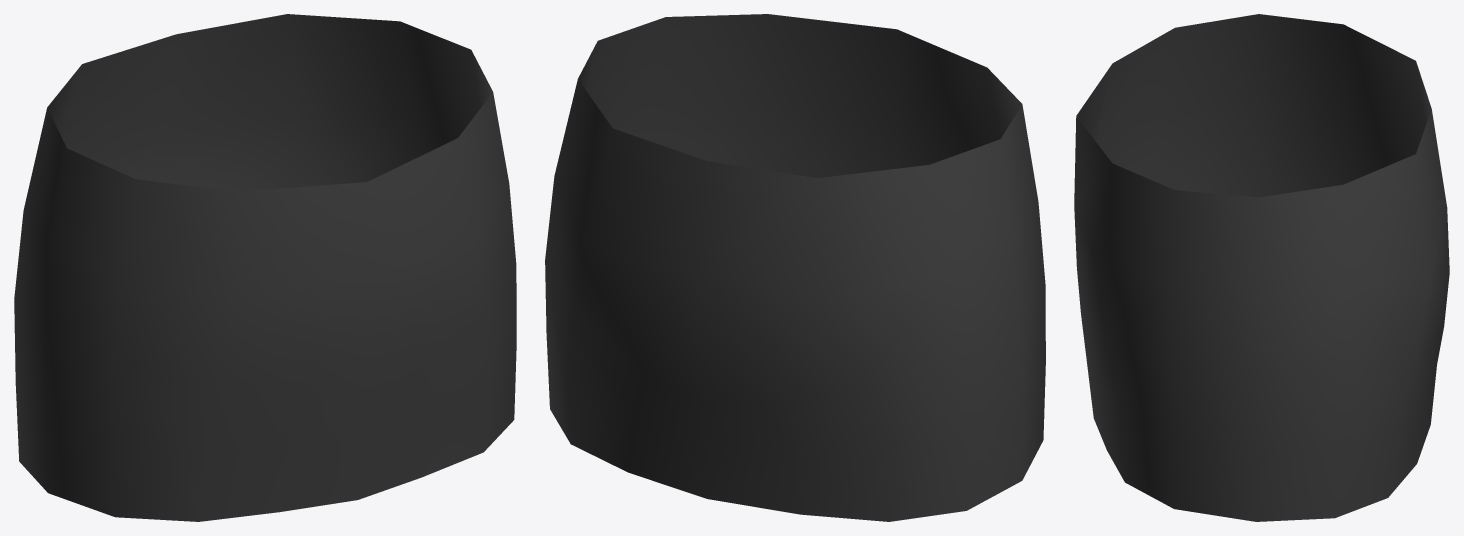
The model's file is Pants_Black_006.glb.
3 renders of one model, left to right at view 1: azimuth 30°, elevation 25°; view 2: azimuth 150°, elevation 25°; view 3: azimuth 270°, elevation 25°, orthographic. The views are drawn at different scales.
Visible parts, largest first — view 1: Pants_Black_006; view 2: Pants_Black_006; view 3: Pants_Black_006.
Part boxes in pixels (x1,y1,x2,y2): Pants_Black_006: (14, 14, 516, 521); Pants_Black_006: (545, 14, 1045, 521); Pants_Black_006: (1074, 14, 1449, 521).
Size of the model in its own units: 0.4681 by 0.3437 by 0.3645.
1 material, 1 textured.
